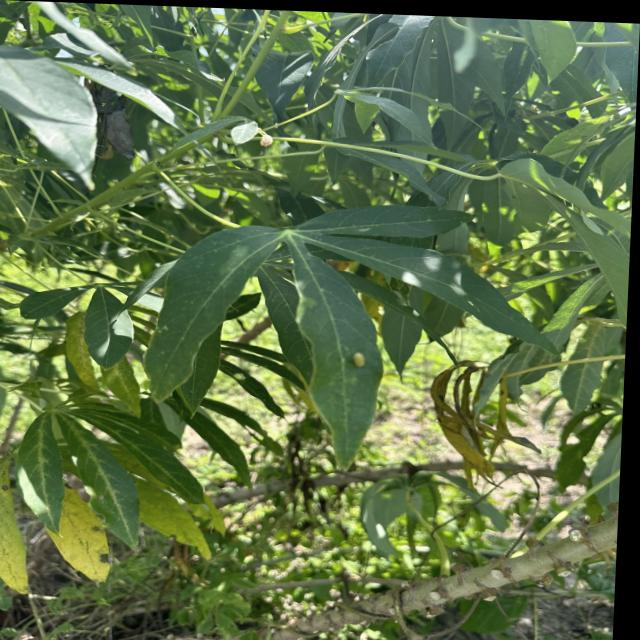Mosaico: (0, 397, 220, 616)
Mosca: (200, 345, 253, 390), (338, 336, 377, 381)
